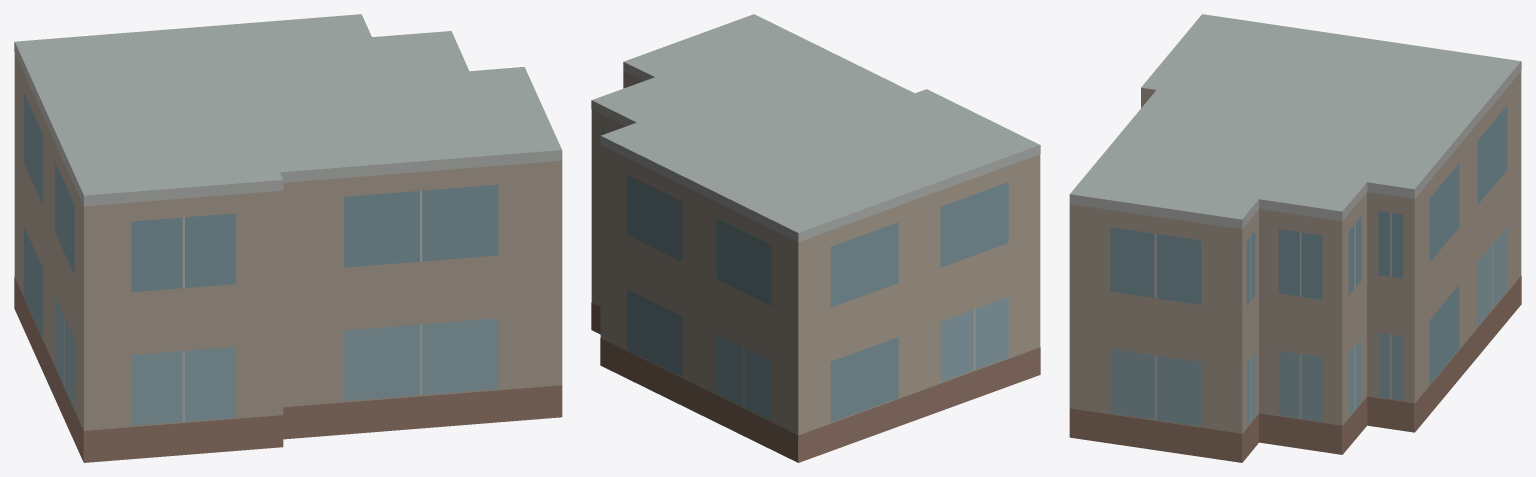
The model's file is survey-upis-32816617.glb.
The picture shows the model from 3 angles, left to right: view 1: azimuth 30°, elevation 25°; view 2: azimuth 150°, elevation 25°; view 3: azimuth 270°, elevation 25°; orthographic projection. The views are drawn at different scales.
Visible parts, largest first — view 1: survey-upis-32816617.tmp; view 2: survey-upis-32816617.tmp; view 3: survey-upis-32816617.tmp.
Boxes of the visible parts, x1,y1,x2,y2 form: survey-upis-32816617.tmp: (14,14,562,462); survey-upis-32816617.tmp: (591,14,1040,462); survey-upis-32816617.tmp: (1069,14,1521,462).
Bounding box in the file's own units: 11.07 × 6.1 × 10.28.
